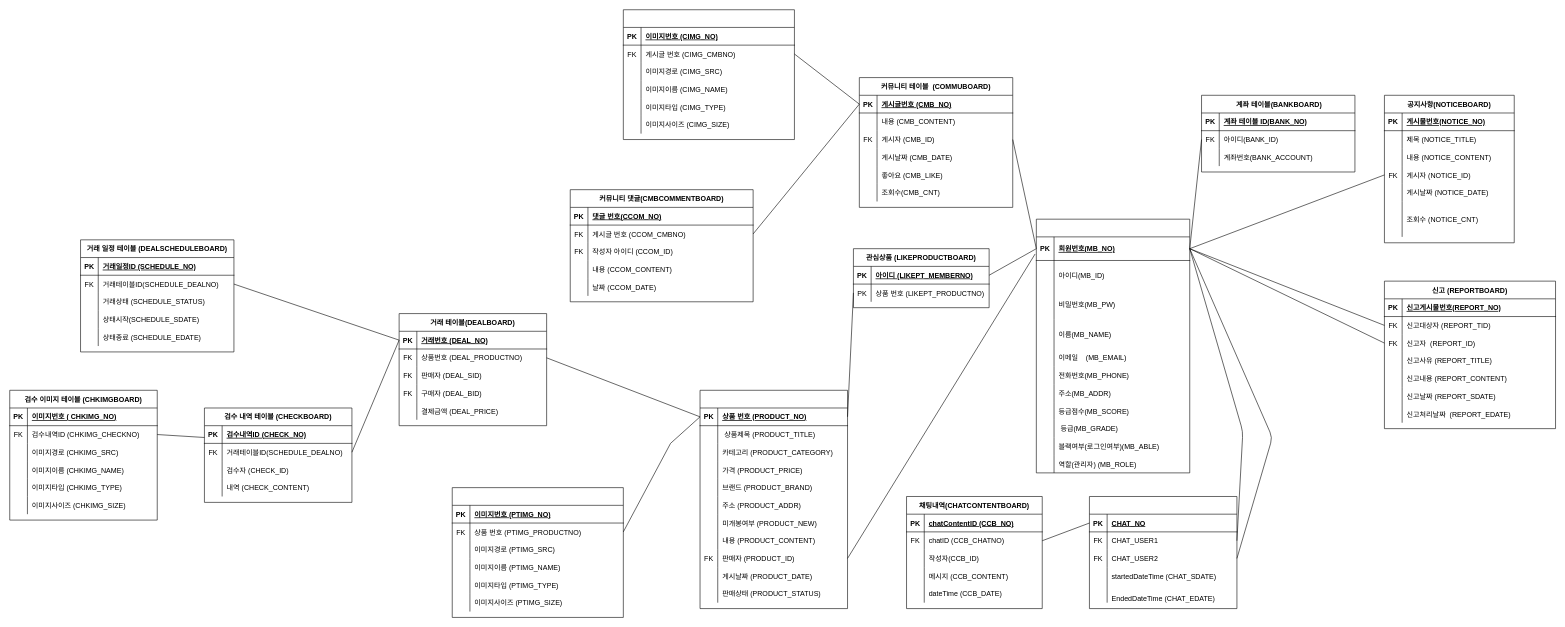
This 1565x627 diagram has some shape labels left out. Each missing label, with the box of its shape:
상품 이미지 테이블 (PTIMGBOARD): (452, 487, 623, 617)
상품 테이블 (PRODUCTBOARD): (699, 390, 848, 609)
채팅(CHATBOARD): (1089, 496, 1237, 609)
커뮤니티 이미지 테이블 (CMBIMGBOARD): (623, 9, 794, 140)
회원정보(MEMBERBOARD): (1036, 219, 1190, 473)
